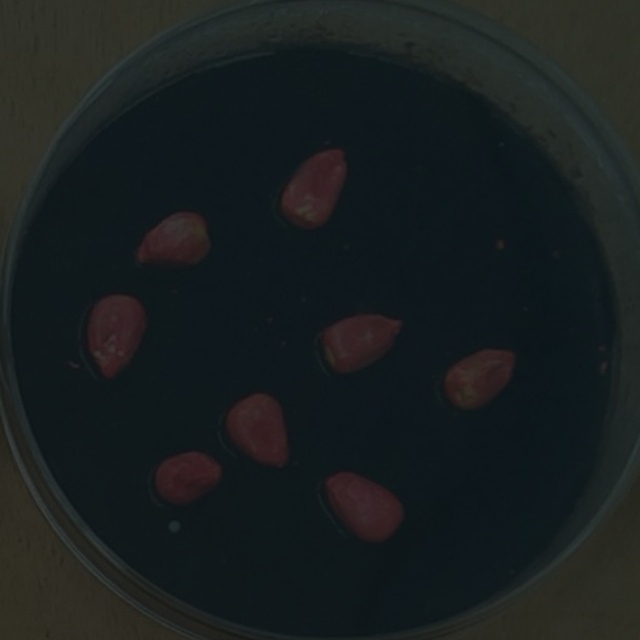Zea mays: (316, 464, 412, 552), (274, 139, 355, 240), (81, 286, 155, 390), (312, 306, 410, 383), (217, 385, 298, 476), (126, 205, 221, 277), (435, 343, 523, 419), (146, 445, 230, 514)
